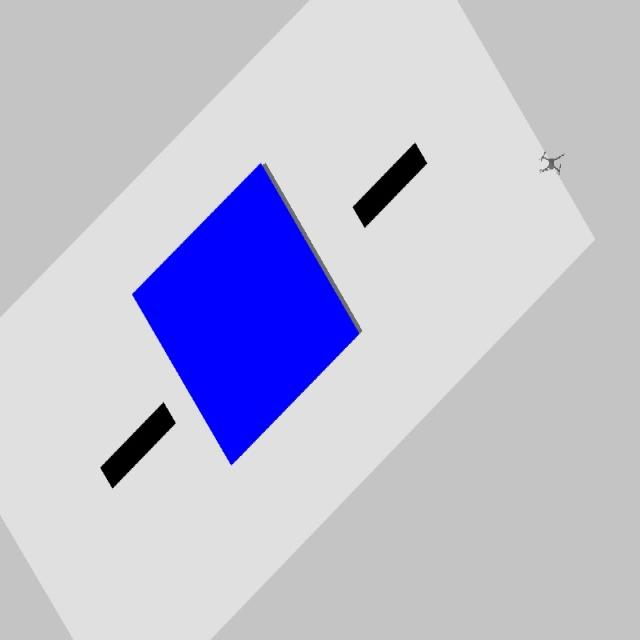blue_square: (131, 162, 362, 467)
